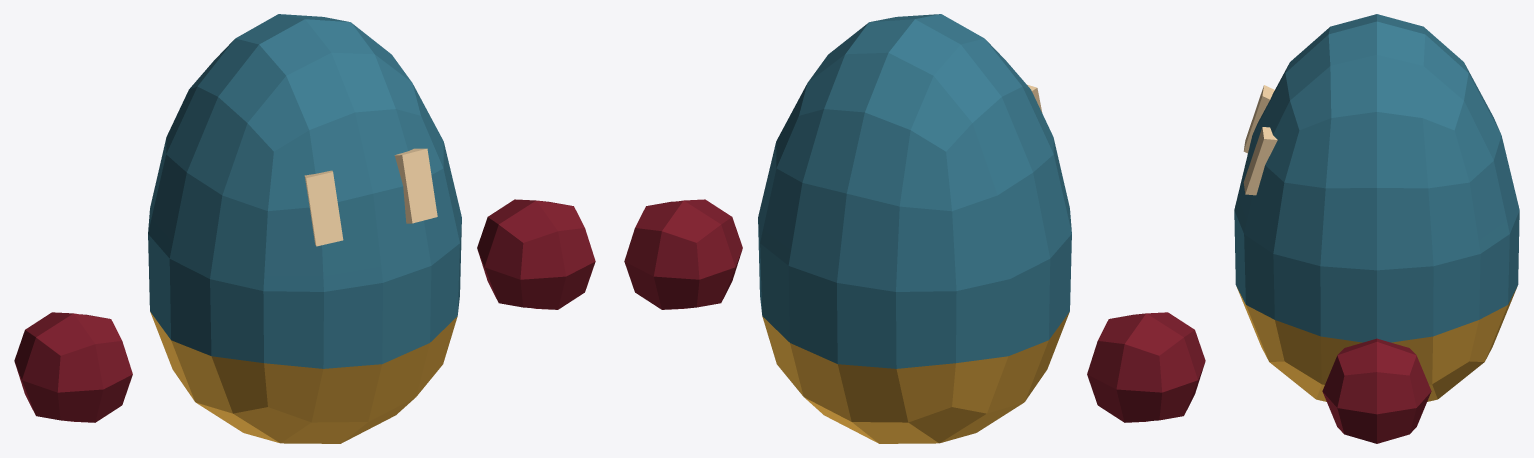
Rendered from bixo3.glb.
3 views of the same model, side by side, from view 1: azimuth 30°, elevation 25°; view 2: azimuth 150°, elevation 25°; view 3: azimuth 270°, elevation 25° (orthographic). The views are drawn at different scales.
Visible parts, largest first — view 1: Cube, Cube.001, Cube.003; view 2: Cube, Cube.001; view 3: Cube, Cube.001, Cube.003.
Part boxes in pixels (bbox=[...]): Cube: bbox=[148, 14, 461, 443]; Cube.001: bbox=[14, 199, 595, 422]; Cube.003: bbox=[304, 148, 437, 246]; Cube: bbox=[758, 14, 1071, 443]; Cube.001: bbox=[624, 199, 1205, 422]; Cube: bbox=[1234, 14, 1519, 401]; Cube.001: bbox=[1322, 338, 1431, 443]; Cube.003: bbox=[1243, 85, 1277, 195].
Size of the model in its own units: 3.96 by 2.76 by 1.89.
Materials: 3 (3 with a texture image).
